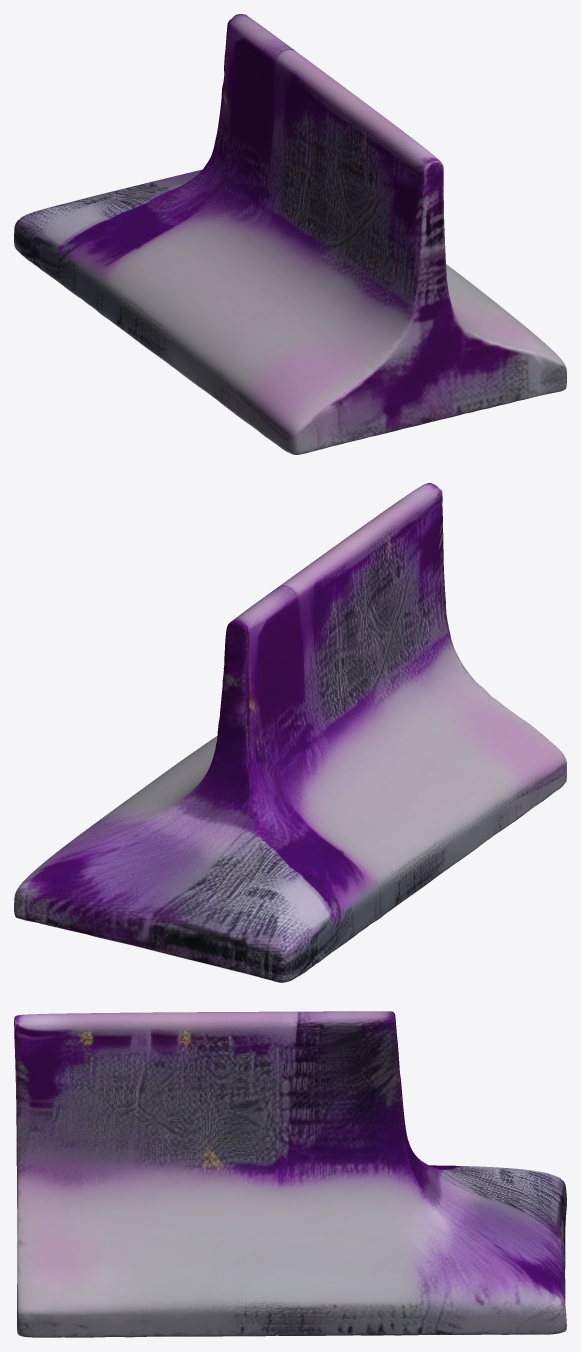
The model's file is vet_equip_blood_smear.glb.
3 views of the same model, one above another, from view 1: azimuth 30°, elevation 25°; view 2: azimuth 150°, elevation 25°; view 3: azimuth 270°, elevation 25° (orthographic). The views are drawn at different scales.
Parts seen in each view (by area): view 1: model; view 2: model; view 3: model.
Boxes of the visible parts, x1,y1,x2,y2 form: model: (14, 14, 566, 454); model: (14, 483, 566, 982); model: (14, 1011, 566, 1337).
Size of the model in its own units: 1.07 by 1.12 by 1.9.
1 material, 1 textured.
